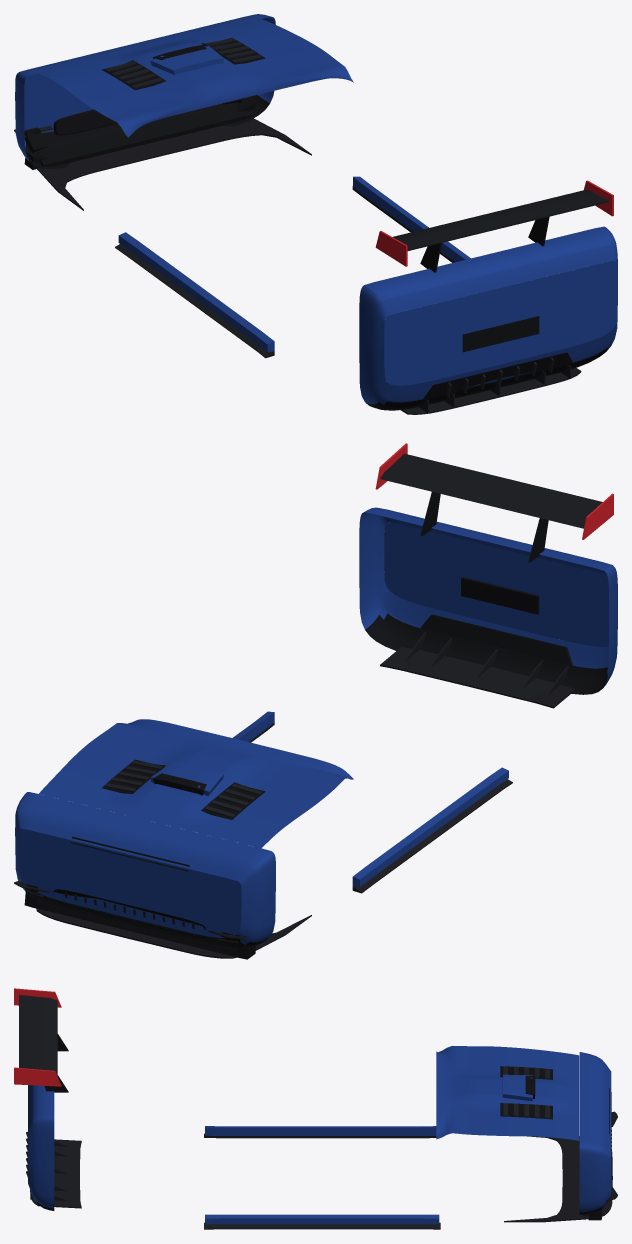
File: kit_track.glb
3 views of the same model, one above another, from view 1: azimuth 30°, elevation 25°; view 2: azimuth 150°, elevation 25°; view 3: azimuth 270°, elevation 25° (orthographic). The views are drawn at different scales.
Parts seen in each view (by area): view 1: bumper_front__track, bumper_rear__track, hood__track, spoiler__track, skirts__track; view 2: bumper_front__track, hood__track, bumper_rear__track, spoiler__track, skirts__track; view 3: hood__track, bumper_front__track, skirts__track, bumper_rear__track, spoiler__track.
Part boxes in pixels (x1,y1,x2,y2): bumper_front__track: [14, 14, 617, 385]; bumper_rear__track: [359, 226, 617, 414]; hood__track: [39, 19, 353, 137]; spoiler__track: [375, 180, 613, 272]; skirts__track: [115, 176, 470, 358]; bumper_front__track: [14, 522, 608, 959]; hood__track: [39, 719, 353, 848]; bumper_rear__track: [359, 507, 617, 708]; spoiler__track: [375, 443, 613, 562]; skirts__track: [233, 711, 512, 893]; hood__track: [436, 1046, 579, 1140]; bumper_front__track: [504, 1052, 617, 1222]; skirts__track: [204, 1126, 440, 1229]; bumper_rear__track: [26, 1085, 81, 1210]; spoiler__track: [14, 988, 68, 1092].
Size of what is drawn, in the model's own units: 1.77 by 1.32 by 4.69.
